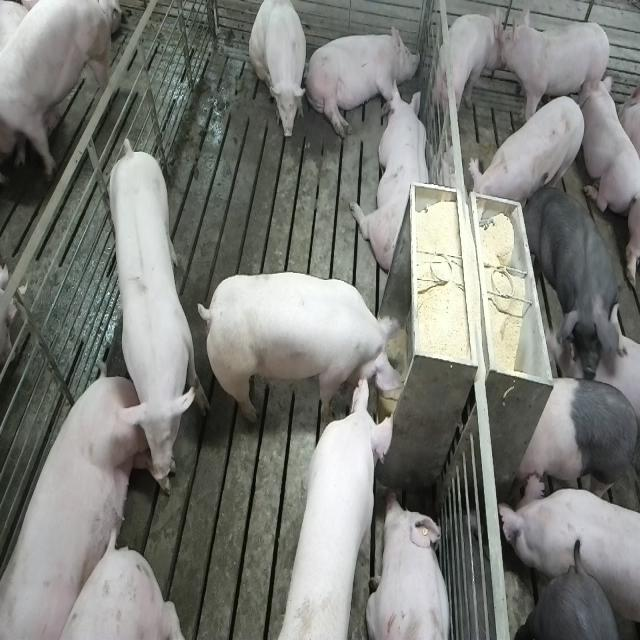Feeding: (197, 268, 408, 428), (277, 368, 393, 633)
Lateral_lying: (304, 21, 420, 140)
Sitting: (249, 2, 308, 145)
Standing: (103, 132, 200, 486), (498, 471, 638, 639), (0, 0, 114, 188), (524, 182, 622, 380), (514, 375, 638, 514), (472, 96, 589, 214), (517, 563, 630, 638), (436, 15, 502, 130)
Sternal_lying: (353, 79, 432, 274), (368, 493, 456, 640), (580, 72, 637, 220), (617, 66, 640, 152)
